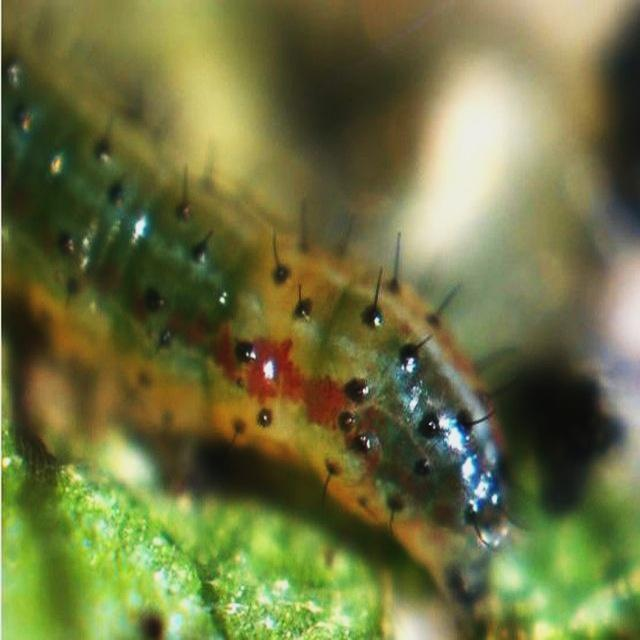Plaga: (1, 6, 529, 591)
